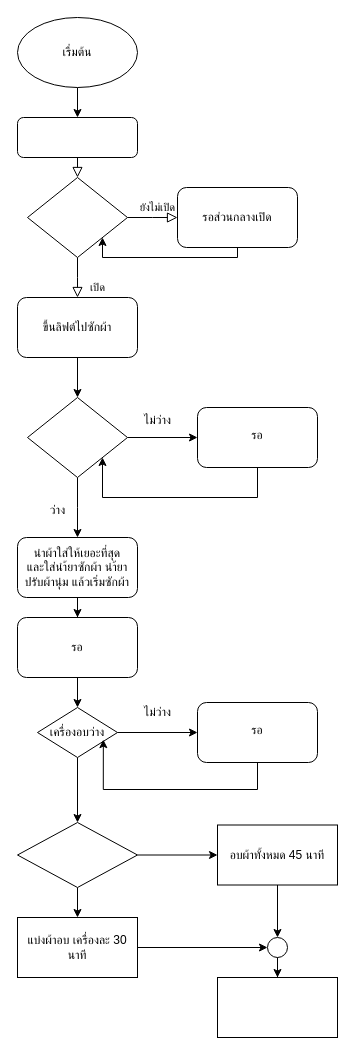
This 355x1055 diagram has some shape labels left out. The shapes that lost their labels are listed below. From the top down, each one's centre as x and y in pixels, then its label:
pixel 77 137: ตื่น
pixel 77 217: ส่วนกลางเปิด?
pixel 77 437: เครื่องซักผ้าว่าง?
pixel 77 855: เครื่องอบว่าง > 1 เครื่อง
pixel 277 1007: นำผ้าออกแล้วกลับห้องเข้าตู้เสื้อผ้า
